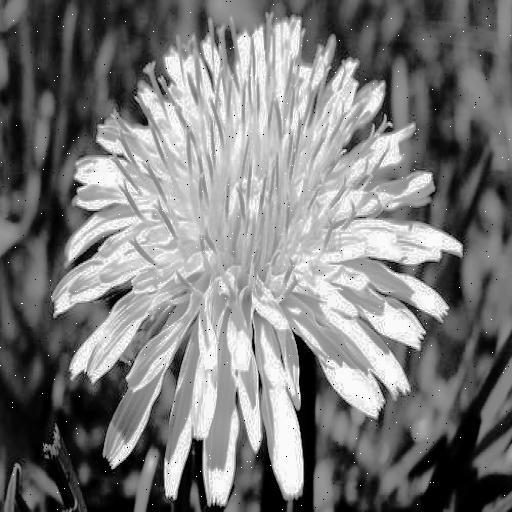dandelion: (64, 17, 450, 512)
